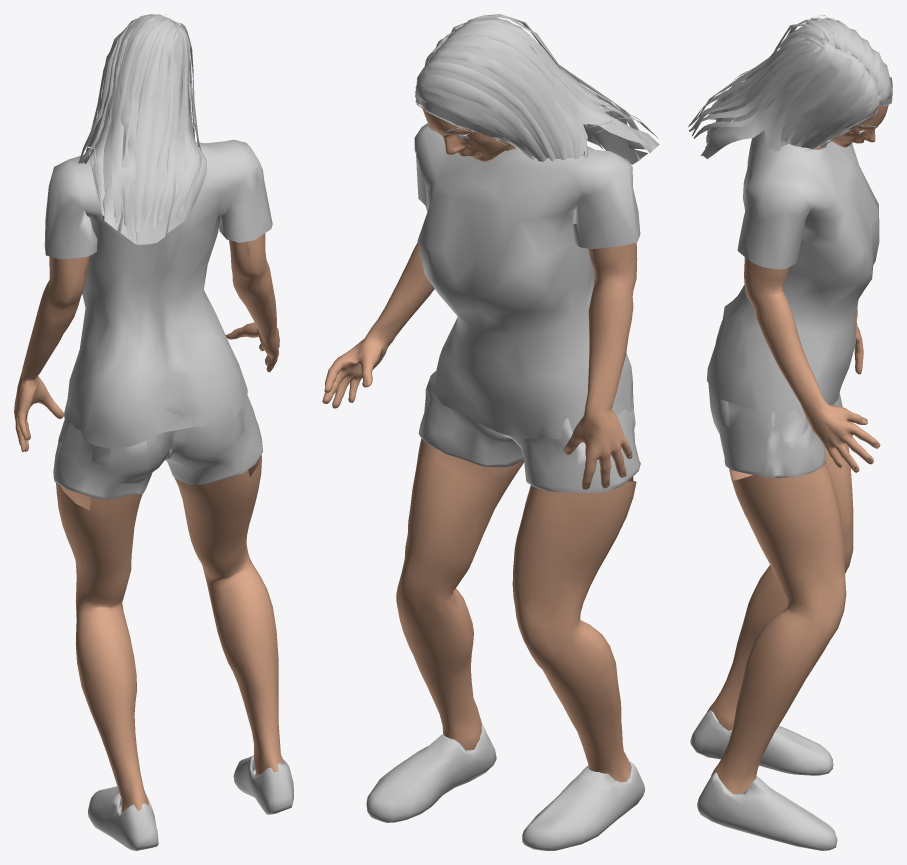
Rendered from player2att_000001.obj.
The picture shows the model from 3 angles, left to right: view 1: azimuth 30°, elevation 25°; view 2: azimuth 150°, elevation 25°; view 3: azimuth 270°, elevation 25°; orthographic projection. The views are drawn at different scales.
Parts seen in each view (by area): view 1: player2:Body, player2:tshirt02, player2:fhair01, player2:short01, player2:shoes02; view 2: player2:Body, player2:tshirt02, player2:fhair01, player2:shoes02, player2:short01; view 3: player2:Body, player2:tshirt02, player2:fhair01, player2:shoes02, player2:short01.
Boxes of the visible parts, left/top/right/bottom form: player2:Body: left=14, top=233, right=284, bottom=812; player2:tshirt02: left=44, top=139, right=272, bottom=448; player2:fhair01: left=78, top=14, right=206, bottom=244; player2:short01: left=53, top=395, right=262, bottom=499; player2:shoes02: left=88, top=755, right=293, bottom=850; player2:Body: left=322, top=106, right=637, bottom=782; player2:tshirt02: left=414, top=123, right=640, bottom=439; player2:fhair01: left=415, top=14, right=659, bottom=223; player2:shoes02: left=366, top=724, right=644, bottom=850; player2:short01: left=418, top=370, right=640, bottom=492; player2:Body: left=707, top=105, right=888, bottom=794; player2:tshirt02: left=707, top=130, right=879, bottom=416; player2:fhair01: left=688, top=14, right=892, bottom=158; player2:shoes02: left=690, top=710, right=837, bottom=850; player2:short01: left=708, top=373, right=842, bottom=477.
Size of the model in its own units: 5.85 by 16.32 by 3.89.
